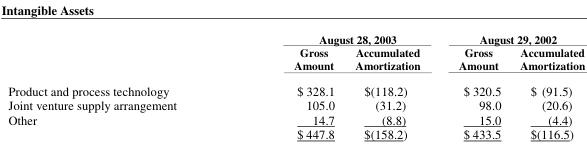table: (0, 1, 584, 141)
table column: (0, 1, 234, 141), (234, 1, 344, 141), (344, 1, 438, 141), (509, 1, 584, 141), (438, 1, 509, 141)
table column header: (0, 1, 584, 77)
table row: (0, 1, 584, 45), (0, 45, 584, 77), (0, 77, 584, 97), (0, 111, 584, 126), (0, 126, 584, 141), (0, 97, 584, 111)
table spanning cell: (0, 1, 234, 77), (234, 1, 438, 45), (438, 1, 584, 45)
